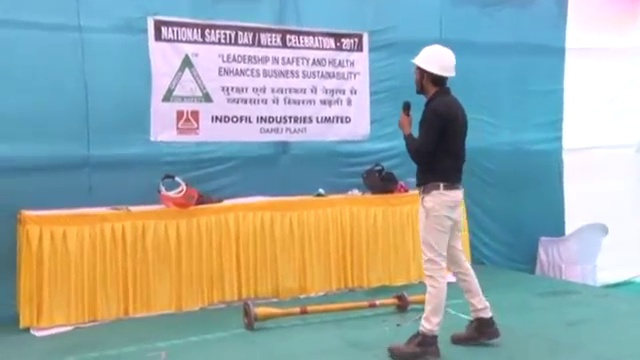helmet: (408, 43, 459, 80)
helmet_on: (407, 43, 459, 99)
person: (393, 45, 503, 357)
